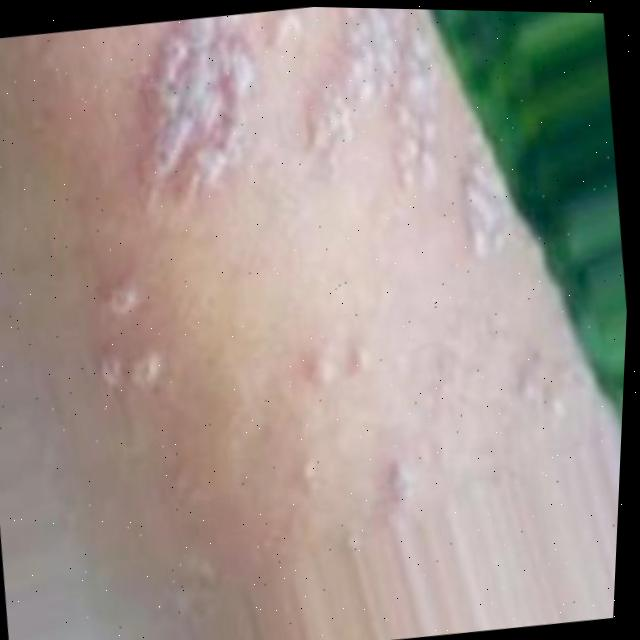Shingles: (121, 3, 537, 289), (92, 280, 177, 394)
